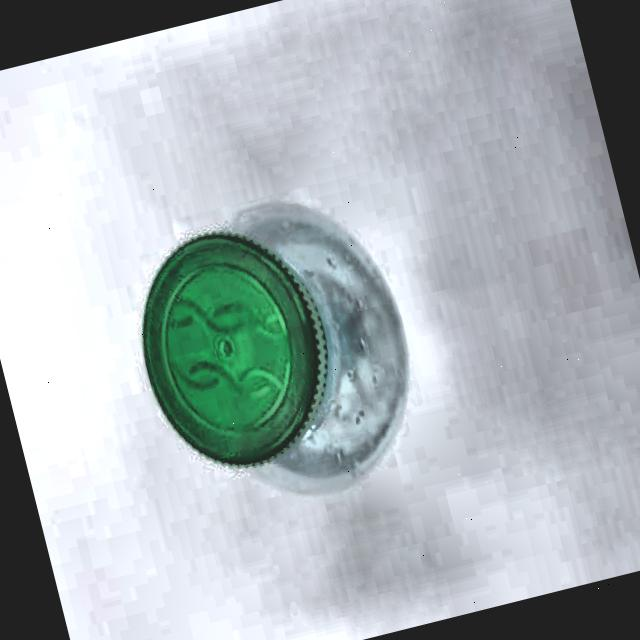plastic: (117, 194, 414, 496)
